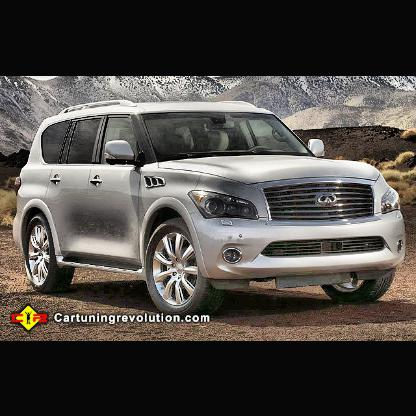Infiniti QX56 SUV 2011: (14, 100, 406, 314)
